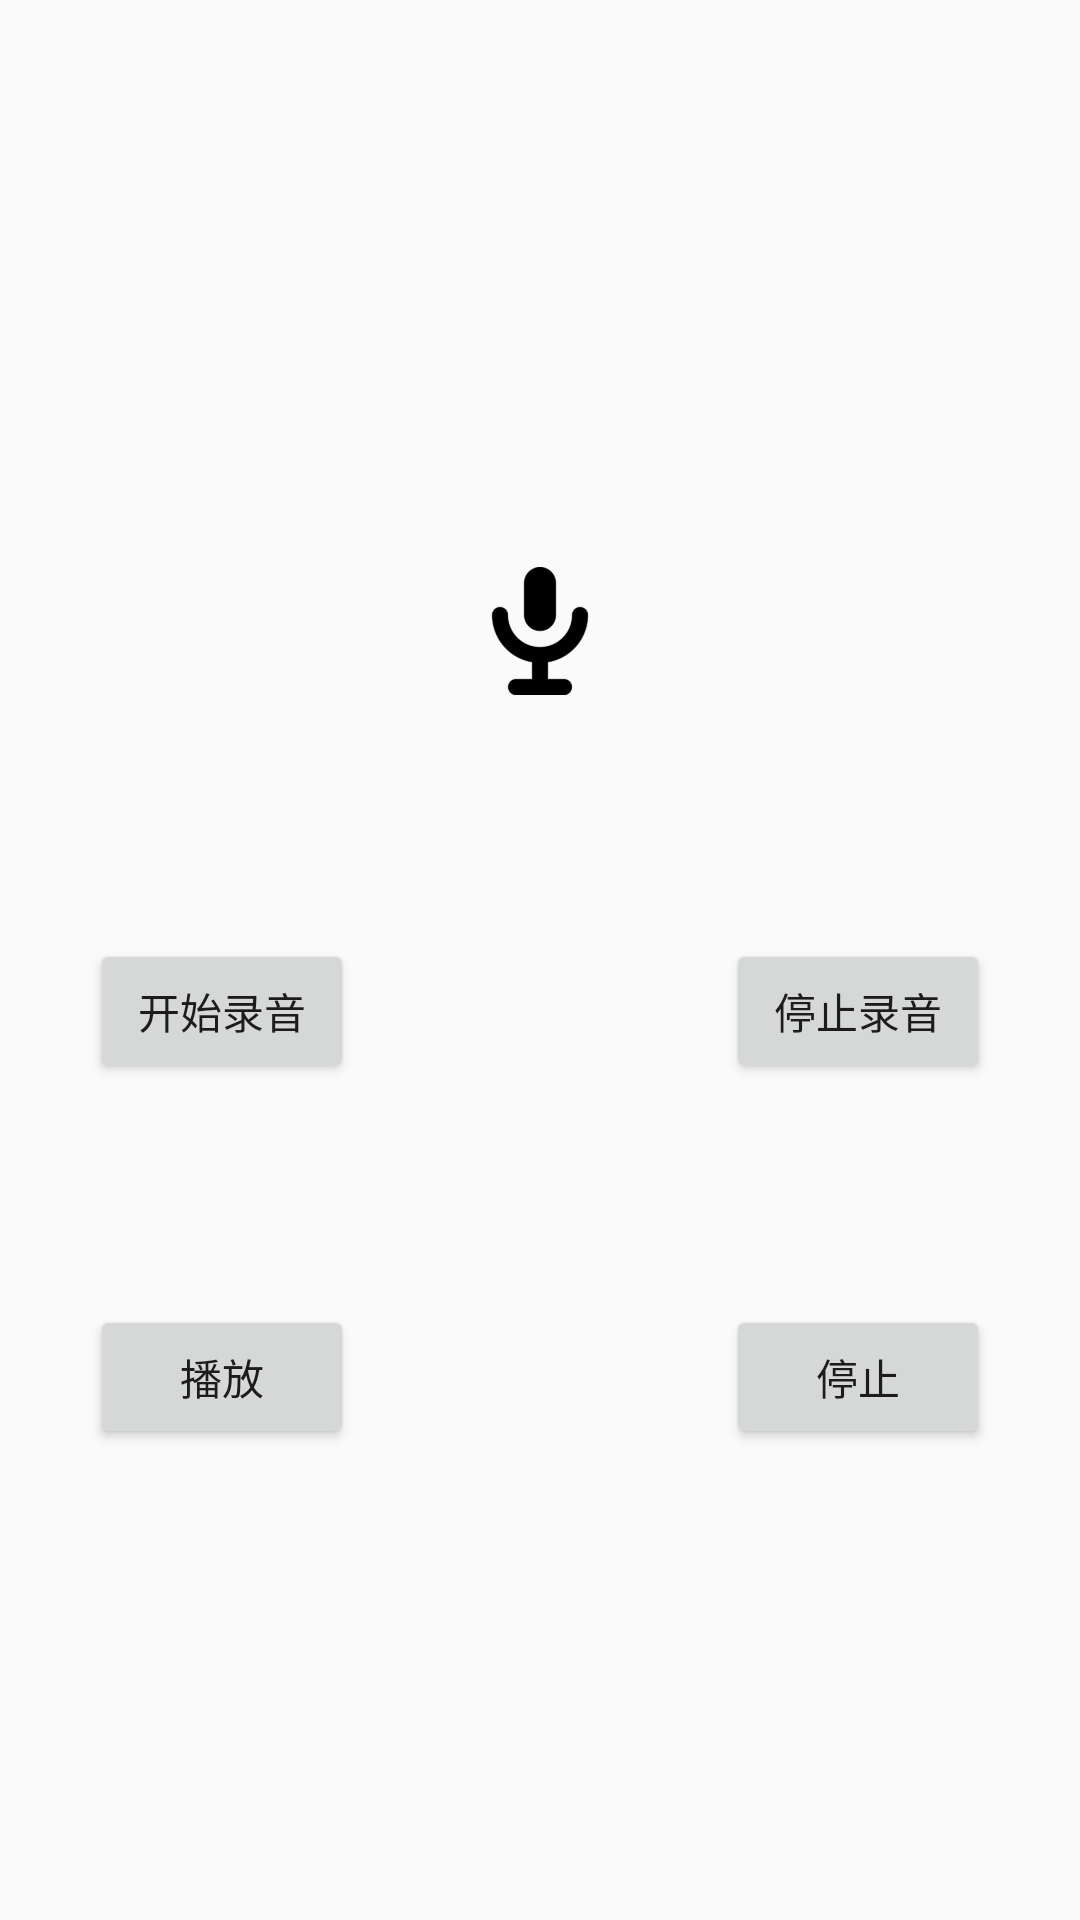

Icon bounding boxes for this 1080w x 1920h phone screenshot, format (x1=x1, y1=y1, x2=x2, y2=y2):
record: (x1=491, y1=567, x2=589, y2=695)
